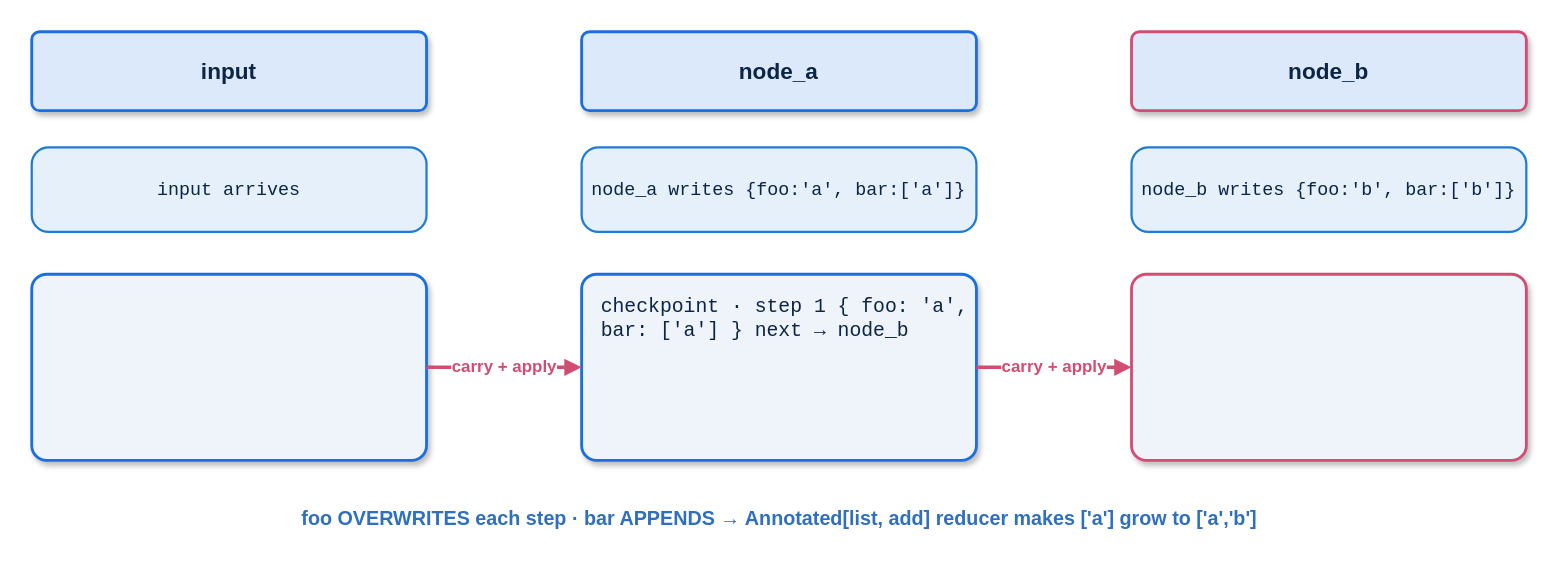
Image size: 1559x563. Some labels were removed from this diagram. The shapes that lost their labels are listed below. From the top down, each one's centre as x and y in pixels, then its label:
At [230,368]: "checkpoint · step 0 { foo: '', bar: [] } next → node_a".
At [1329,368]: "checkpoint · step 2 { foo: 'b', bar: ['a','b'] } next → ()".
